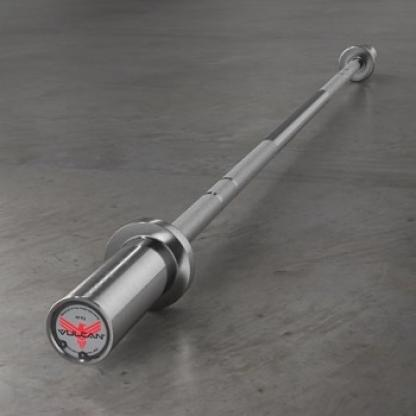Barbell: (45, 295, 121, 372)
